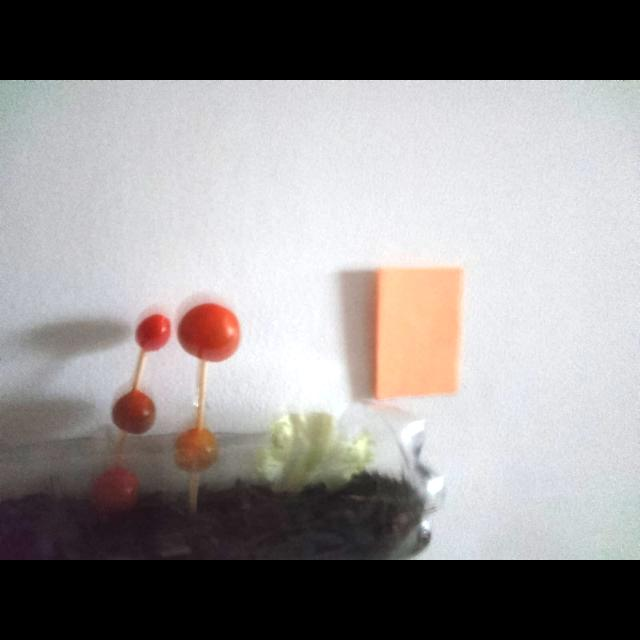card: (375, 268, 463, 398)
fruit_maturation: (175, 428, 218, 473)
fully_grown: (177, 303, 240, 362), (92, 466, 139, 513), (112, 390, 155, 434), (136, 314, 170, 351)
